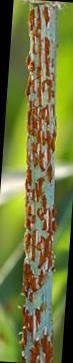Wheat: (26, 41, 54, 301)
